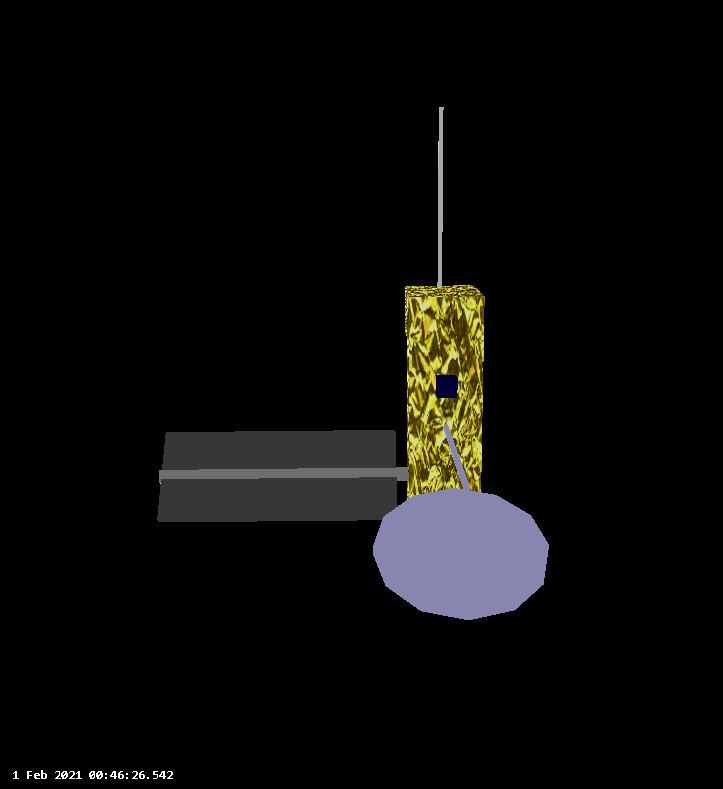antenna: (370, 484, 557, 622), (433, 101, 449, 294)
body: (399, 280, 491, 555)
solar: (152, 428, 403, 528)
